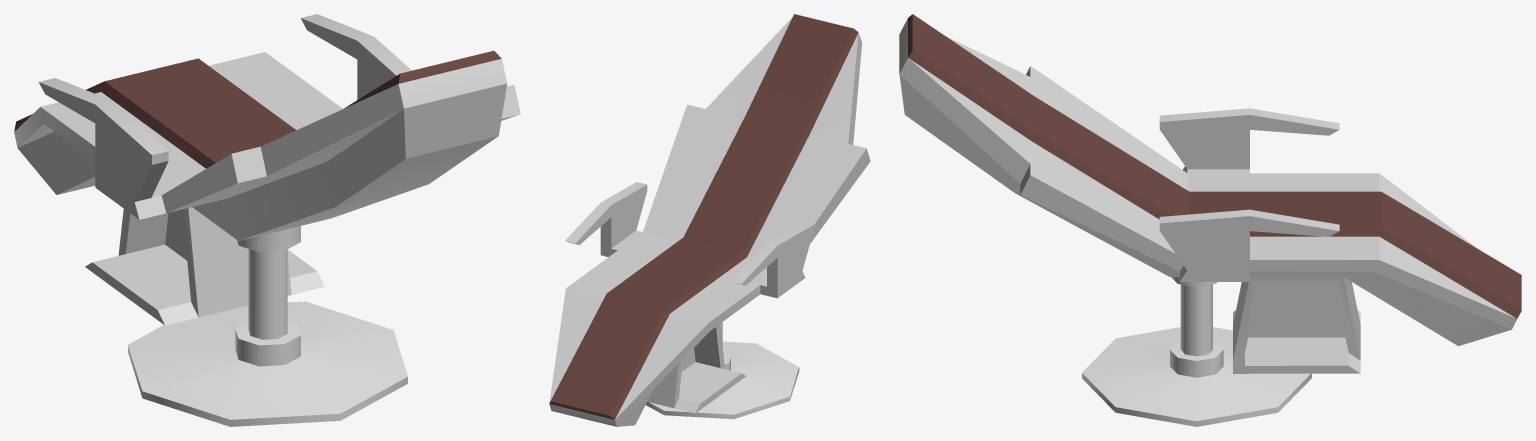
File: SM_Seat_Spin_002.fbx
3 renders of one model, left to right at view 1: azimuth 30°, elevation 25°; view 2: azimuth 150°, elevation 25°; view 3: azimuth 270°, elevation 25°, orthographic. The views are drawn at different scales.
Parts seen in each view (by area): view 1: SM_Seat_Spin.002, SM_SpinSeat_002; view 2: SM_Seat_Spin.002, SM_SpinSeat_002; view 3: SM_Seat_Spin.002, SM_SpinSeat_002.
Boxes of the visible parts, left/top/right/bottom form: SM_Seat_Spin.002: left=14, top=14, right=520, bottom=325; SM_SpinSeat_002: left=128, top=226, right=407, bottom=426; SM_Seat_Spin.002: left=549, top=14, right=870, bottom=426; SM_SpinSeat_002: left=646, top=322, right=799, bottom=419; SM_Seat_Spin.002: left=899, top=14, right=1521, bottom=373; SM_SpinSeat_002: left=1082, top=277, right=1311, bottom=426.
Bounding box in the file's own units: 0.6225 × 0.9185 × 1.5.
